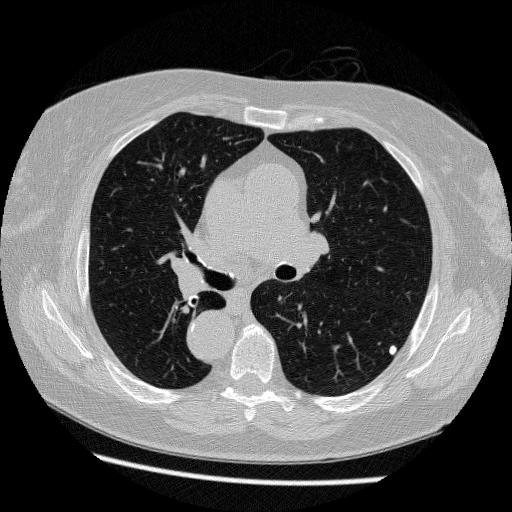nodule: (388, 343, 403, 358)
